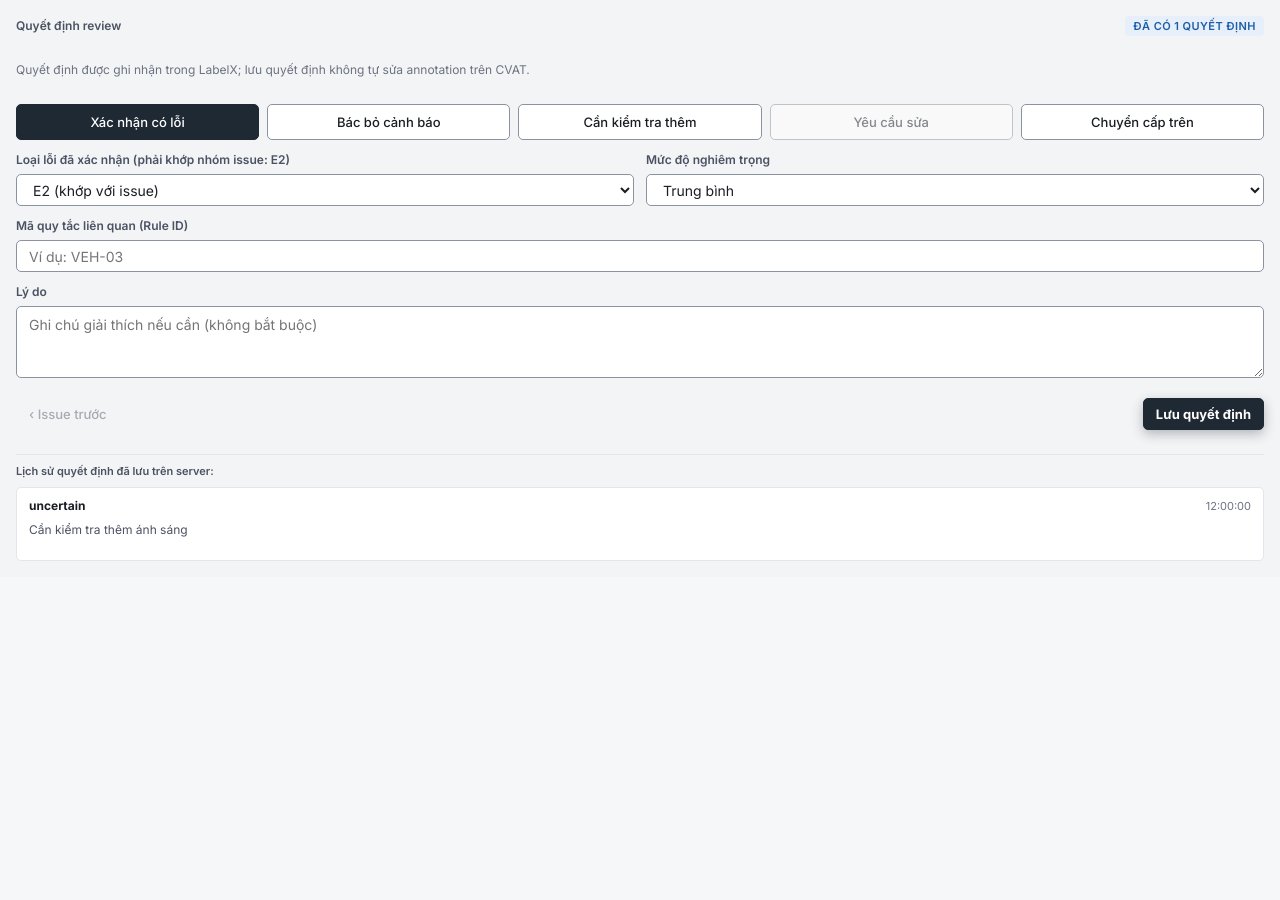
it: T-035 PR130 Interface Integration Tests (T-037 Preparation) › ReviewDecisionForm T-035 contract behavior › preserves successful server save even if subsequent GET refresh fails
Click the button "Lưu quyết định" at (1203, 414), box left=1143, top=398, right=1264, bottom=430
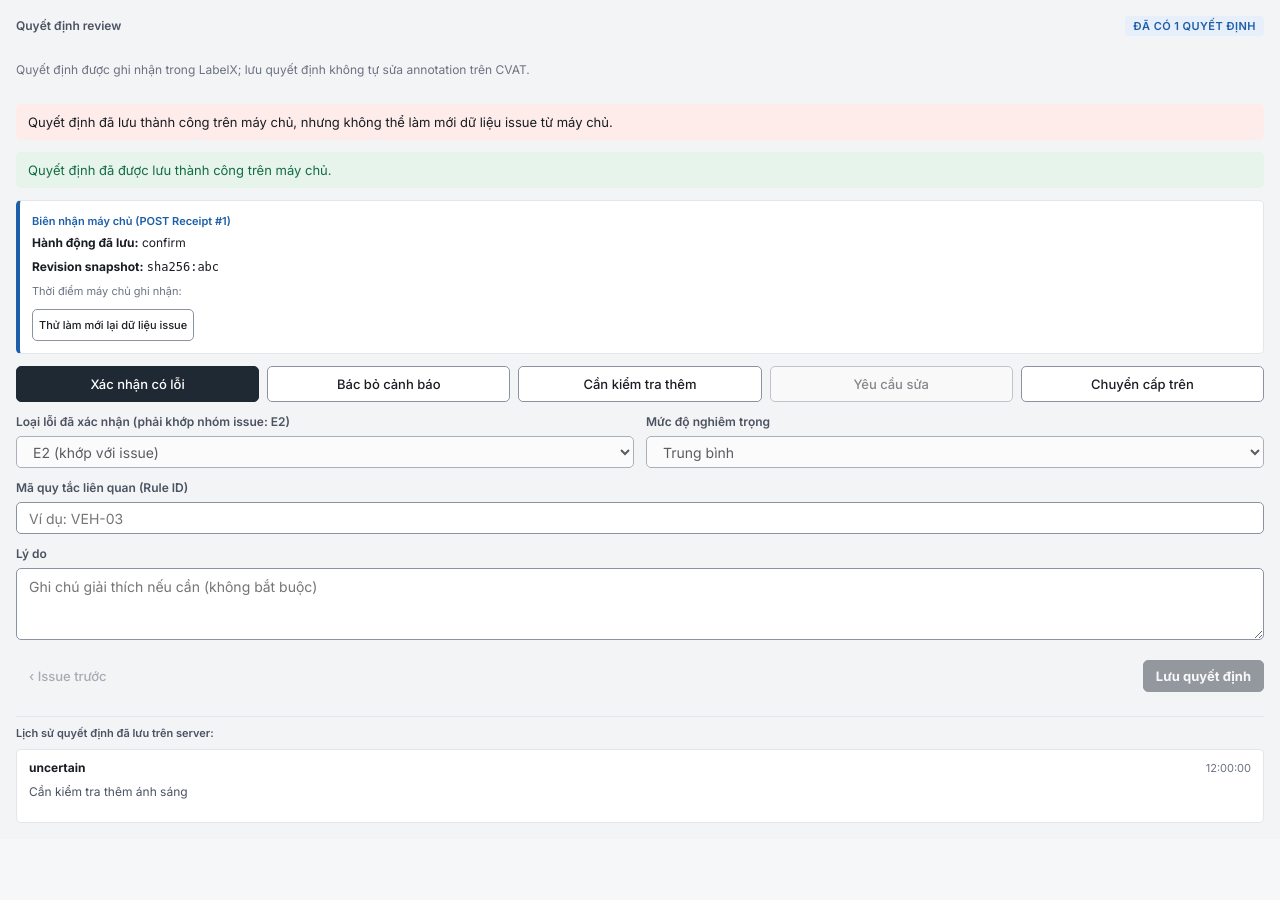
Expected: the text "Quyết định đã được lưu thành công trên máy chủ." is shown, left=28, top=162, right=332, bottom=178
Expected: the text "không thể làm mới dữ liệu issue" is shown, left=28, top=114, right=613, bottom=130
